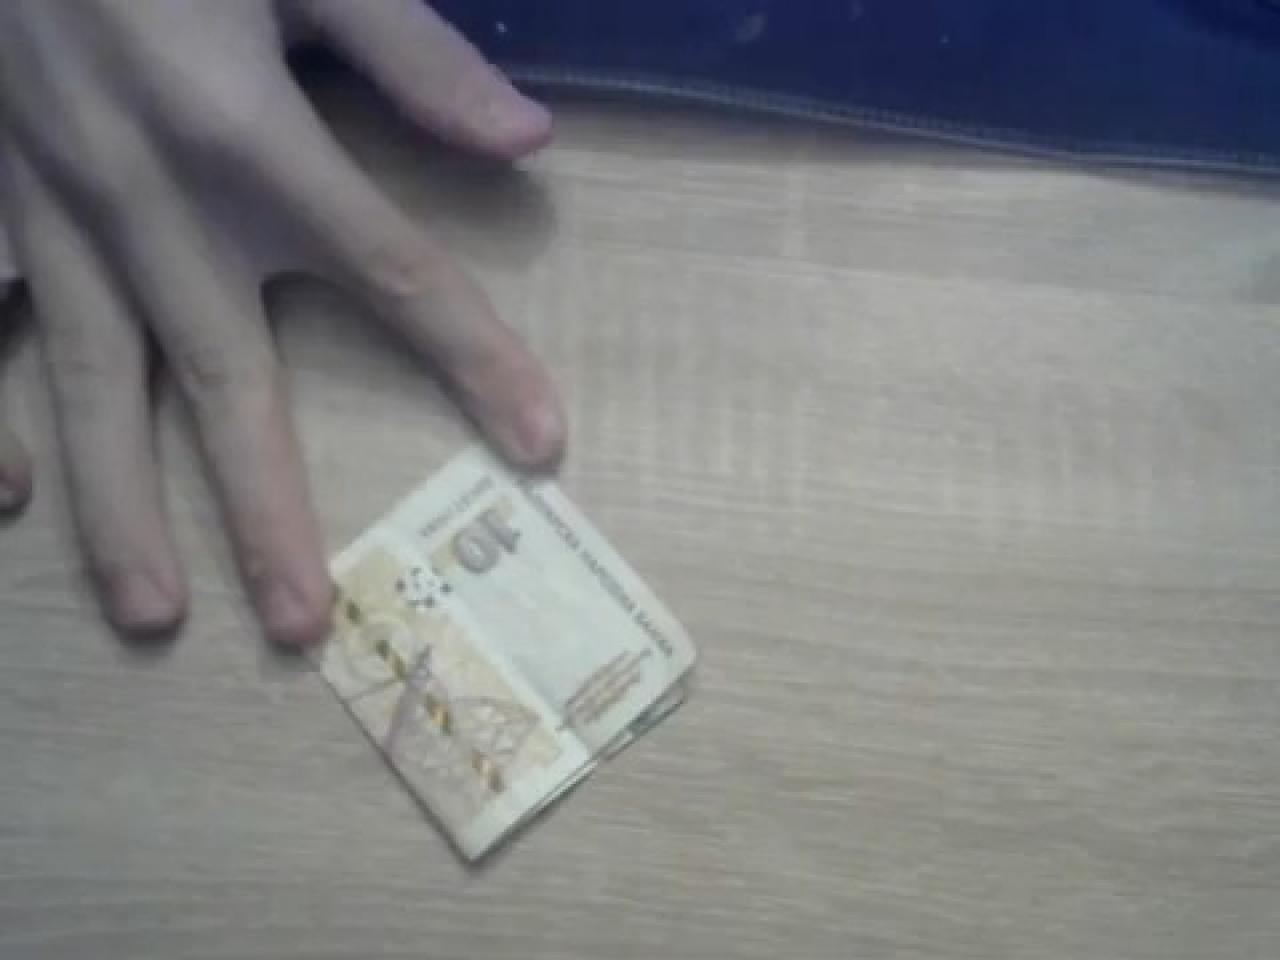10leva: (312, 438, 698, 867)
